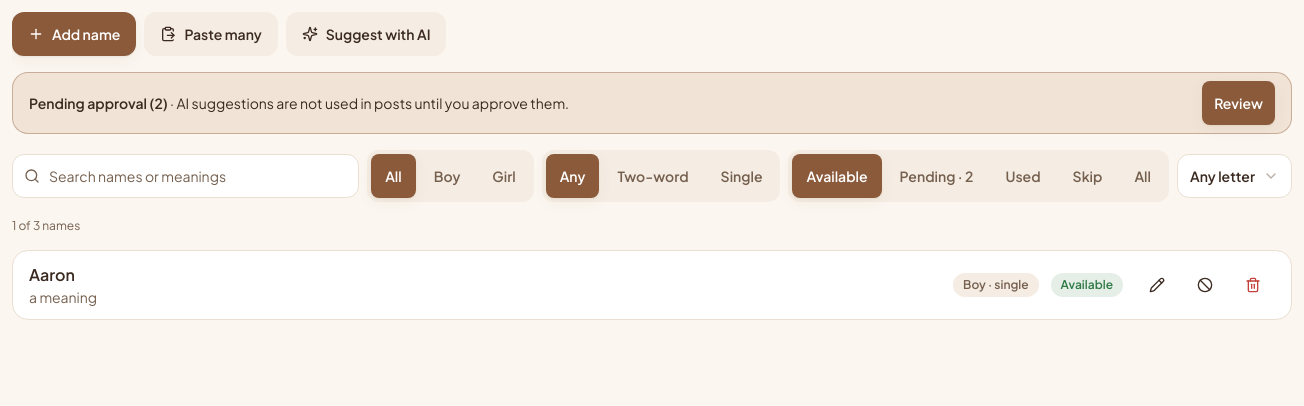
Test case: Names: suggest + approve › shows a Pending approval banner that opens the pending view with Approve/Edit/Reject per row
Click the button "Review".
click(1239, 103)  # box [1202,81,1275,125]
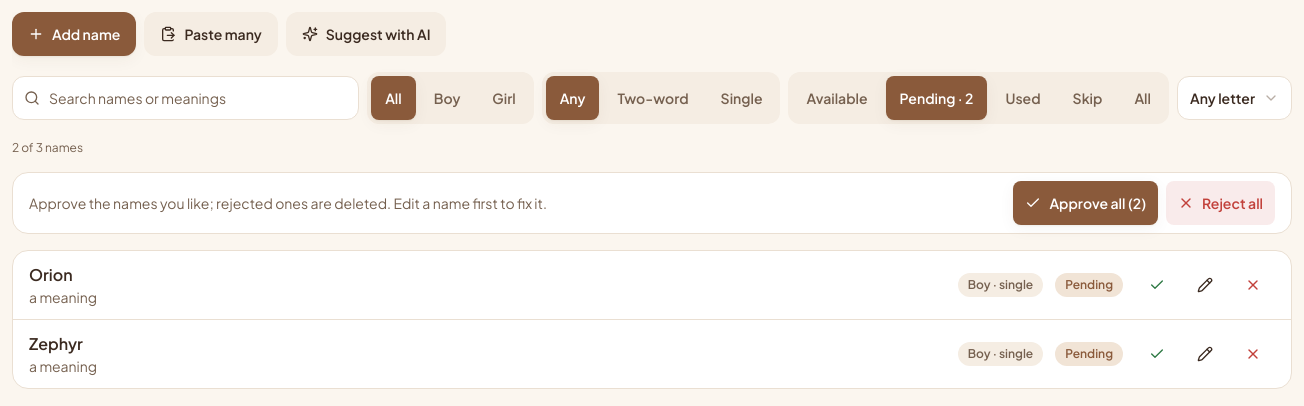
expect the button named "Approve Zephyr" is shown: met, box [1135,332,1179,376]
expect the button named "Edit Zephyr" is shown: met, box [1183,332,1227,376]
expect the button named "Reject Zephyr" is shown: met, box [1231,332,1275,376]
